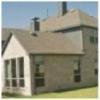chimneys: (30, 14, 39, 32), (58, 0, 66, 18)
